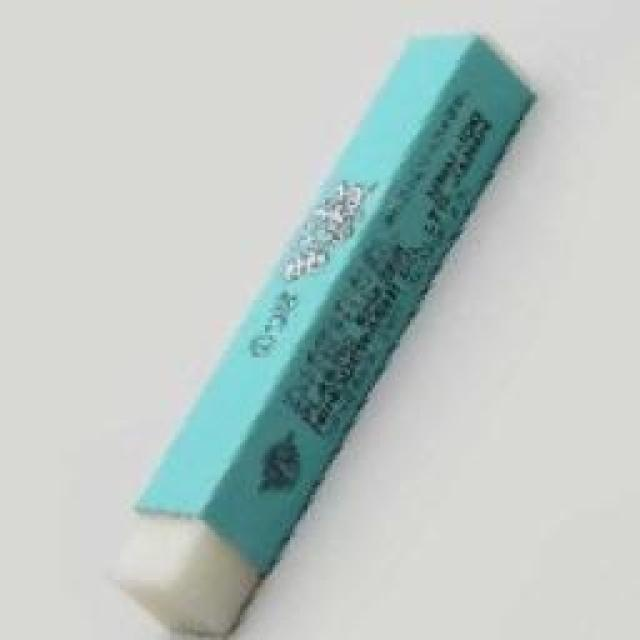Silgi: (110, 30, 538, 640)
